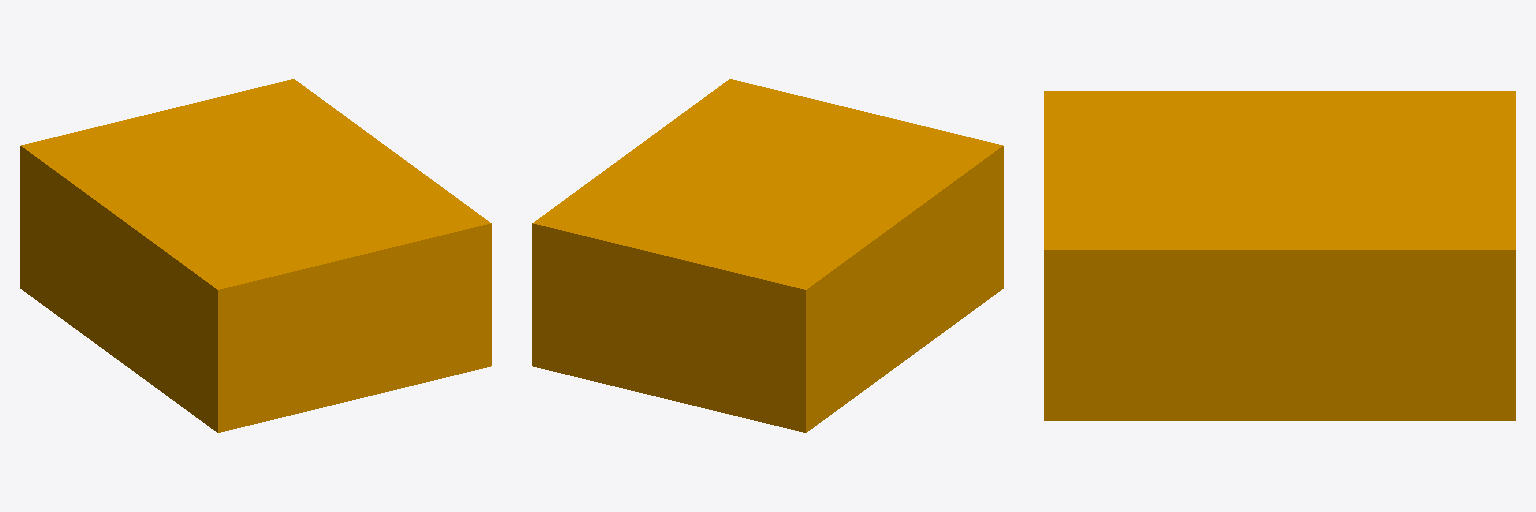
URDF robot description (object):
<?xml version="0.0"?>
	<robot name="object">
		<link name="object">
			<visual>
				<origin xyz="0 0 0"/>
				<geometry>
					<box size="0.4 0.5 0.2"/>
				</geometry>
			</visual>
			<inertial>
				<mass value="4.000"/>
			</inertial>
			<collision>
				<origin xyz="0 0 0"/>
				<geometry>
					<box size="0.4 0.5 0.2"/>
				</geometry>
			</collision>
		</link>

	</robot>

--- What the picture shows (computed from the rendered views, not written in the file) ---
The picture shows the robot from 3 angles, left to right: view 1: azimuth 30°, elevation 25°; view 2: azimuth 150°, elevation 25°; view 3: azimuth 270°, elevation 25°; orthographic projection.
Model object with 1 links and 0 joints (none), rooted at object, posed every joint at zero.
Visible links, largest first — view 1: object; view 2: object; view 3: object.
Link boxes in pixels (<box>): object: <box>20,79,491,432</box>; object: <box>532,79,1003,432</box>; object: <box>1044,91,1515,420</box>.
Bounding box of the posed robot: 0.4 × 0.5 × 0.2 m (x, y, z).
Geometry: primitives only (box / cylinder / sphere), no mesh files.